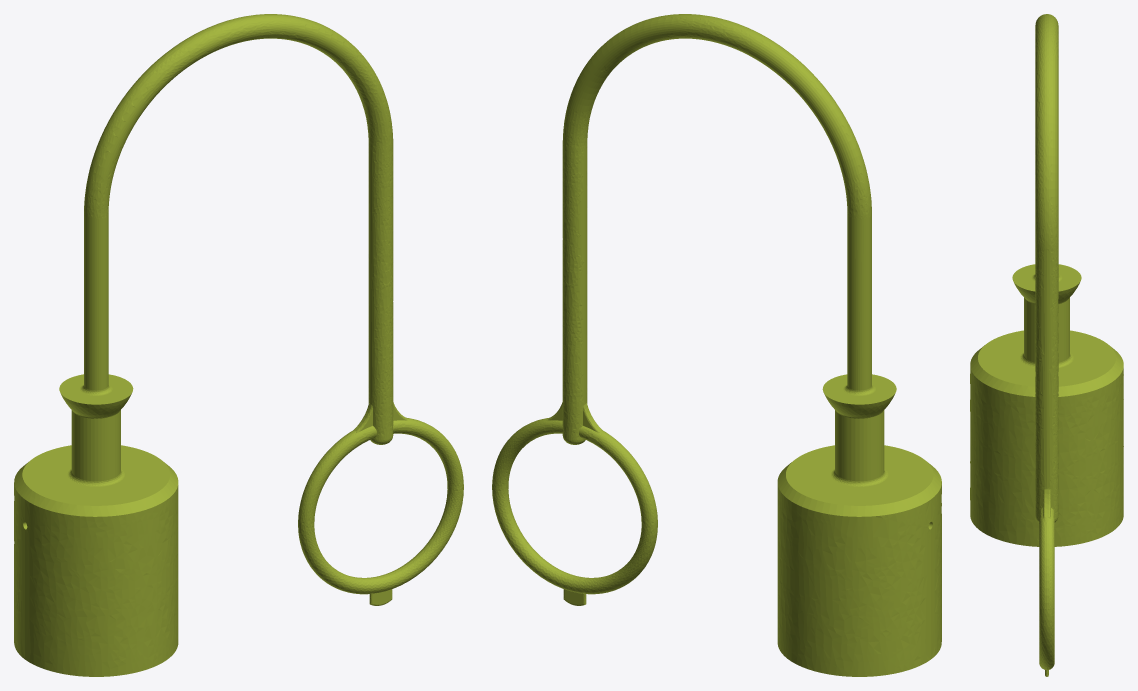
The picture shows the model from 3 angles, left to right: view 1: azimuth 30°, elevation 25°; view 2: azimuth 150°, elevation 25°; view 3: azimuth 270°, elevation 25°; orthographic projection. The views are drawn at different scales.
Visible parts, largest first — view 1: 10293591; view 2: 10293591; view 3: 10293591.
Part boxes in pixels (x1,y1,x2,y2): 10293591: [14, 14, 463, 676]; 10293591: [492, 14, 941, 676]; 10293591: [970, 14, 1123, 676].
Bounding box in the file's own units: 0.7376 × 1 × 0.2399.
